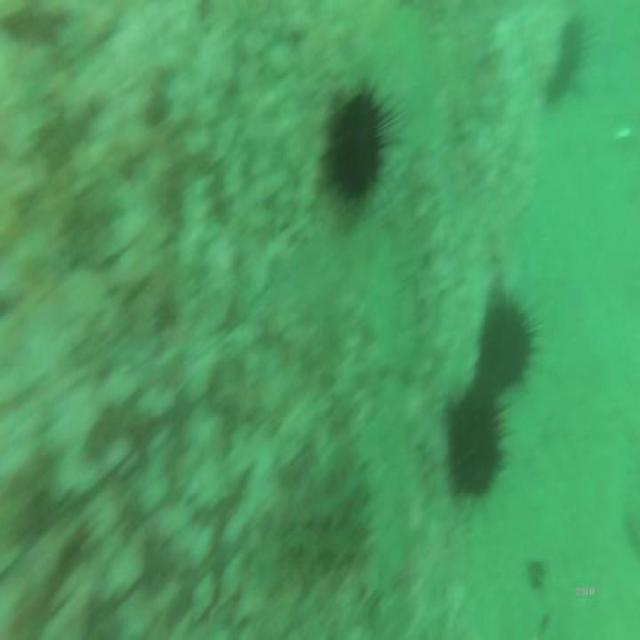echinus: (325, 87, 387, 205), (446, 390, 505, 502), (479, 297, 533, 392), (558, 17, 587, 76)
